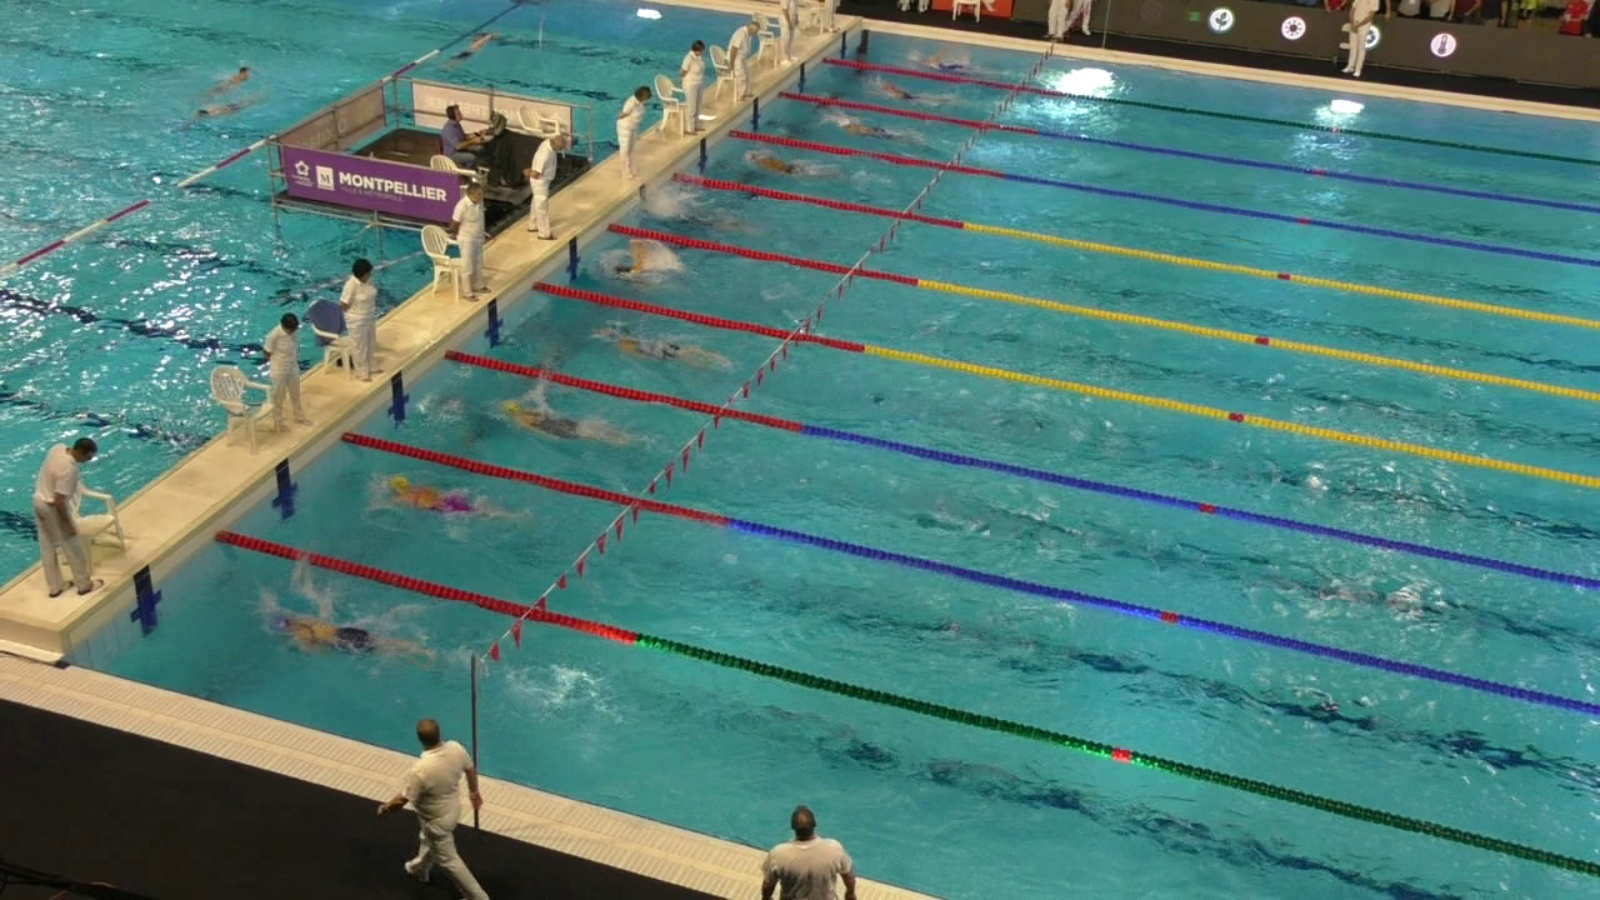swimmerwdd: (275, 607, 443, 671), (381, 468, 519, 533), (481, 397, 621, 455), (607, 236, 701, 305), (651, 192, 774, 245), (614, 335, 746, 380), (738, 143, 851, 184), (443, 31, 518, 76), (181, 96, 286, 125), (869, 77, 957, 112), (826, 115, 921, 144), (919, 52, 991, 79), (207, 60, 259, 87)
